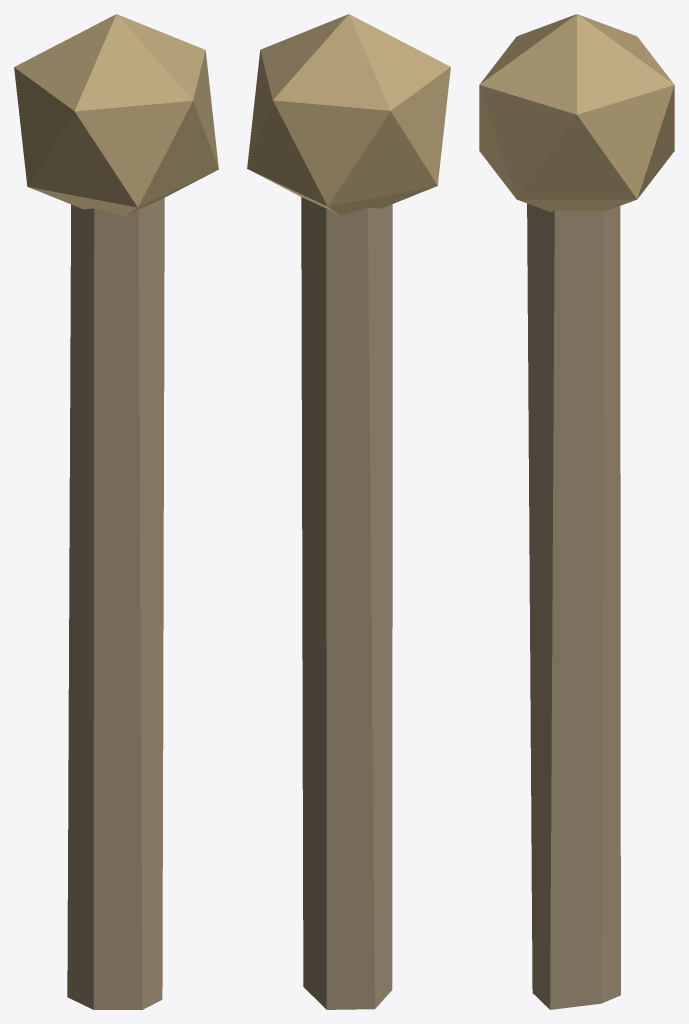
Rendered from wand.glb.
3 renders of one model, left to right at view 1: azimuth 30°, elevation 25°; view 2: azimuth 150°, elevation 25°; view 3: azimuth 270°, elevation 25°, orthographic.
Visible parts, largest first — view 1: wand; view 2: wand; view 3: wand.
Part boxes in pixels (x1=…): wand: x1=14, y1=14, x2=218, y2=1009; wand: x1=247, y1=14, x2=450, y2=1009; wand: x1=479, y1=14, x2=674, y2=1009.
Size of the model in its own units: 0.0894 by 0.4719 by 0.0851.
